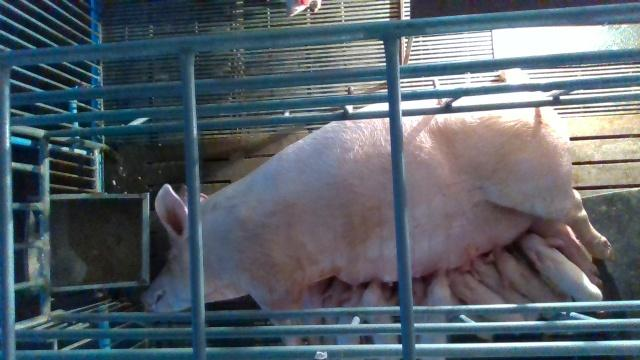piglet: (521, 232, 604, 302), (486, 245, 563, 318), (461, 252, 540, 321), (414, 268, 459, 360), (448, 270, 520, 322), (359, 278, 401, 360), (338, 284, 365, 346)
sow-sleep-lactate: (143, 82, 614, 346)
